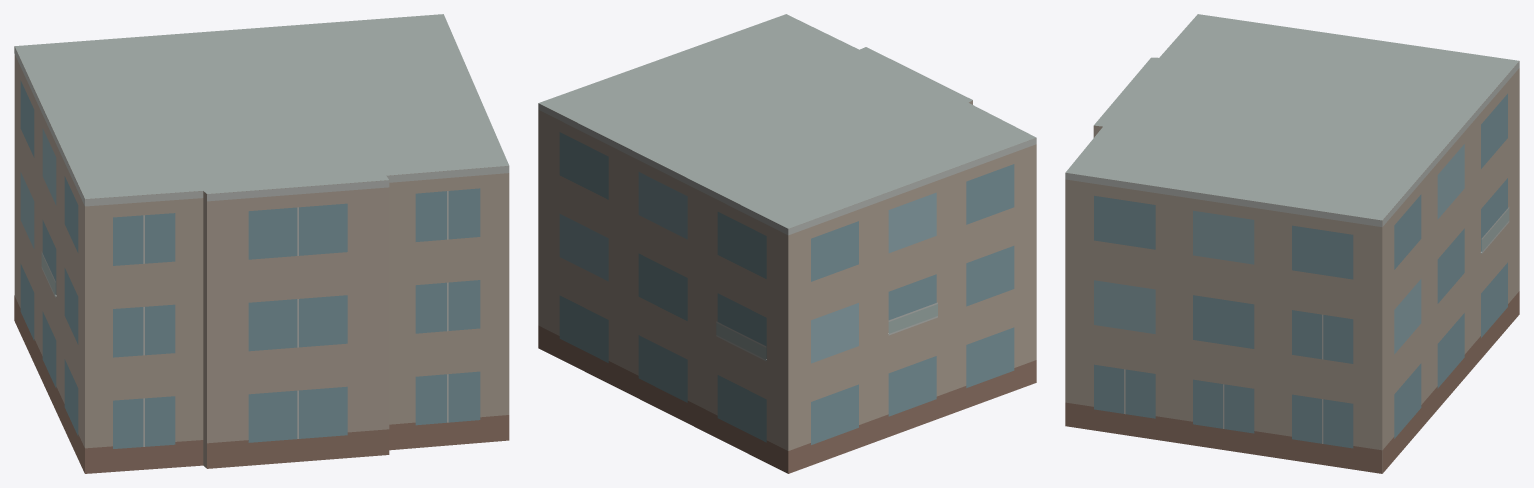
File: survey-upis-32707447.glb
3 renders of one model, left to right at view 1: azimuth 30°, elevation 25°; view 2: azimuth 150°, elevation 25°; view 3: azimuth 270°, elevation 25°, orthographic. The views are drawn at different scales.
Parts seen in each view (by area): view 1: survey-upis-32707447.tmp; view 2: survey-upis-32707447.tmp; view 3: survey-upis-32707447.tmp.
Part boxes in pixels (<box>): survey-upis-32707447.tmp: <box>14,14,509,473</box>; survey-upis-32707447.tmp: <box>538,14,1036,473</box>; survey-upis-32707447.tmp: <box>1065,14,1519,473</box>.
Bounding box in the file's own units: 16 × 9.15 × 14.88.
